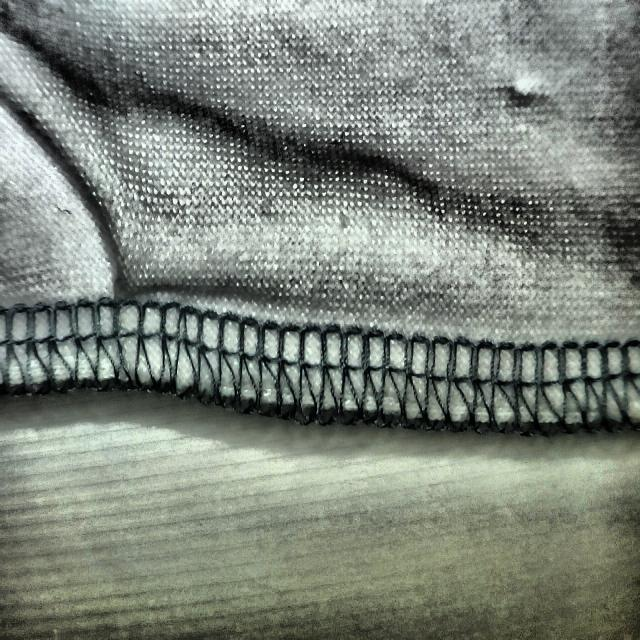seam: (78, 175, 244, 447)
